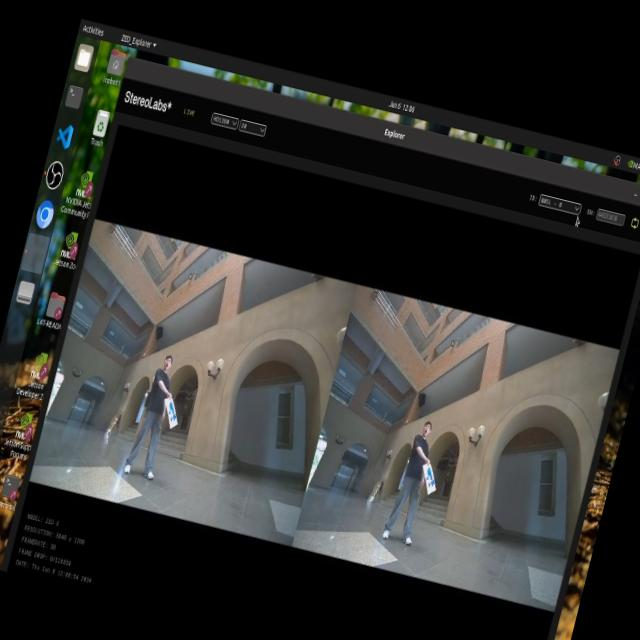blue: (156, 395, 190, 437), (422, 460, 439, 484)
